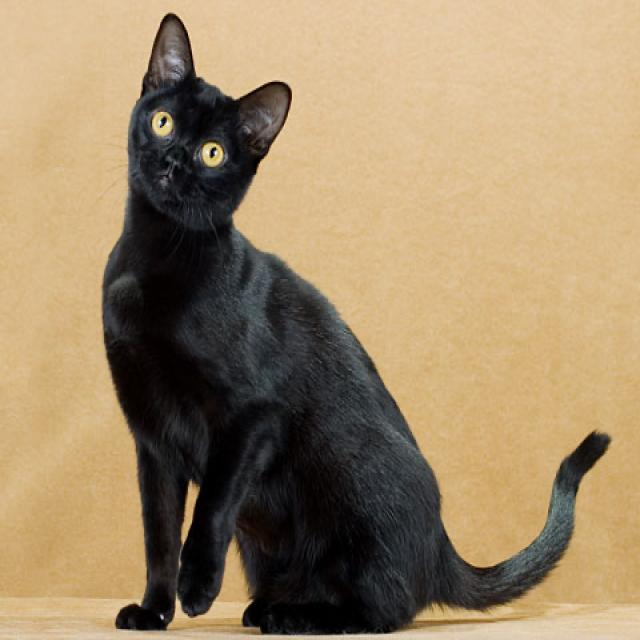cat: (127, 11, 290, 213)
